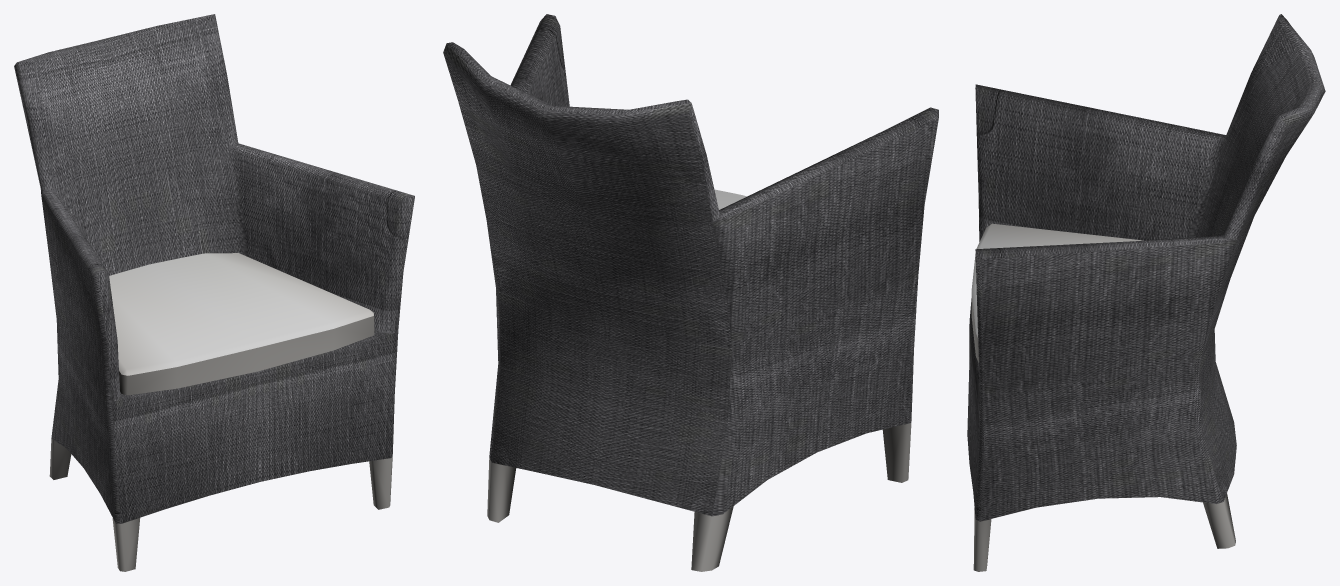
The model's file is SM_Prop_Chair_01.FBX.
The picture shows the model from 3 angles, left to right: view 1: azimuth 30°, elevation 25°; view 2: azimuth 150°, elevation 25°; view 3: azimuth 270°, elevation 25°; orthographic projection. The views are drawn at different scales.
Visible parts, largest first — view 1: SM_Prop_Chair_01; view 2: SM_Prop_Chair_01; view 3: SM_Prop_Chair_01.
Part boxes in pixels (left/top/right/bottom): SM_Prop_Chair_01: left=14, top=14, right=414, bottom=571; SM_Prop_Chair_01: left=443, top=14, right=938, bottom=571; SM_Prop_Chair_01: left=967, top=14, right=1325, bottom=571.
Size of the model in its own units: 0.7896 by 0.9344 by 0.6979.
